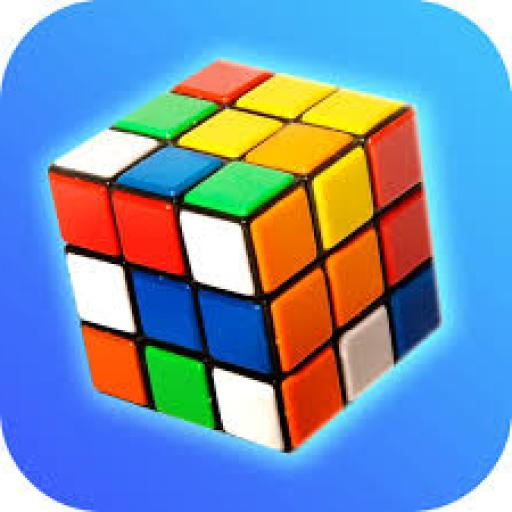cubic: (43, 49, 447, 487)
